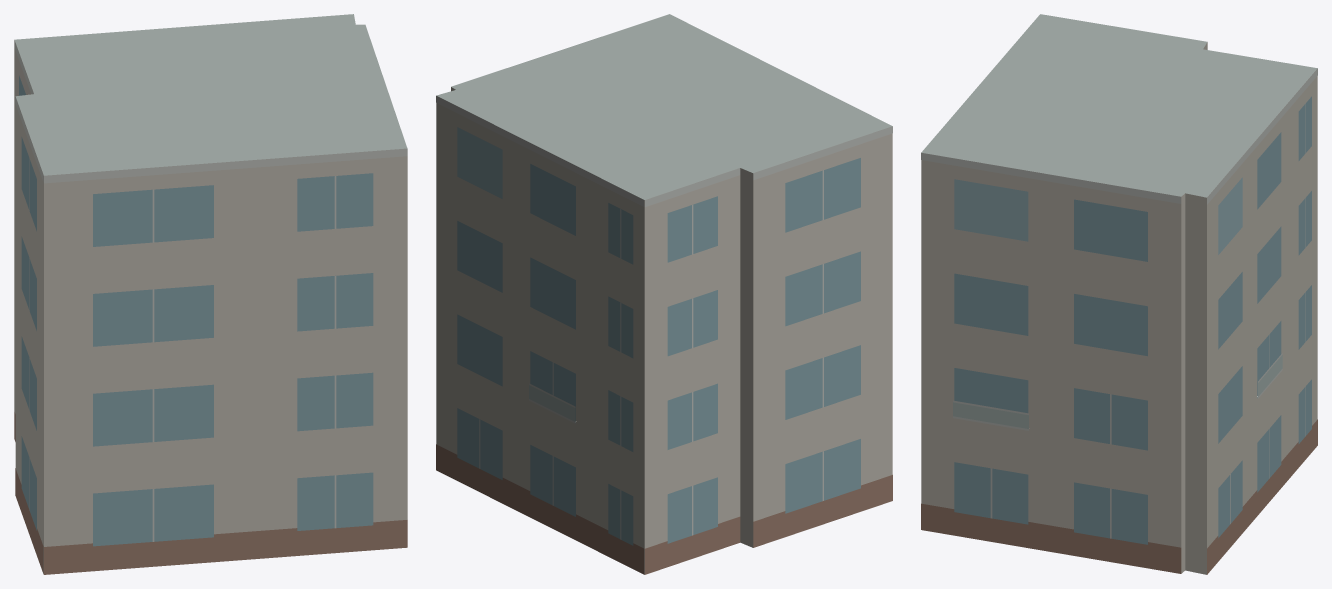
File: survey-upis-32656519.glb
3 views of the same model, side by side, from view 1: azimuth 30°, elevation 25°; view 2: azimuth 150°, elevation 25°; view 3: azimuth 270°, elevation 25° (orthographic). The views are drawn at different scales.
Visible parts, largest first — view 1: survey-upis-32656519.tmp; view 2: survey-upis-32656519.tmp; view 3: survey-upis-32656519.tmp.
Part boxes in pixels (bbox=[...]): survey-upis-32656519.tmp: bbox=[14, 14, 407, 574]; survey-upis-32656519.tmp: bbox=[436, 14, 892, 574]; survey-upis-32656519.tmp: bbox=[921, 14, 1317, 574].
Size of the model in its own units: 13.27 by 12.7 by 12.11.
